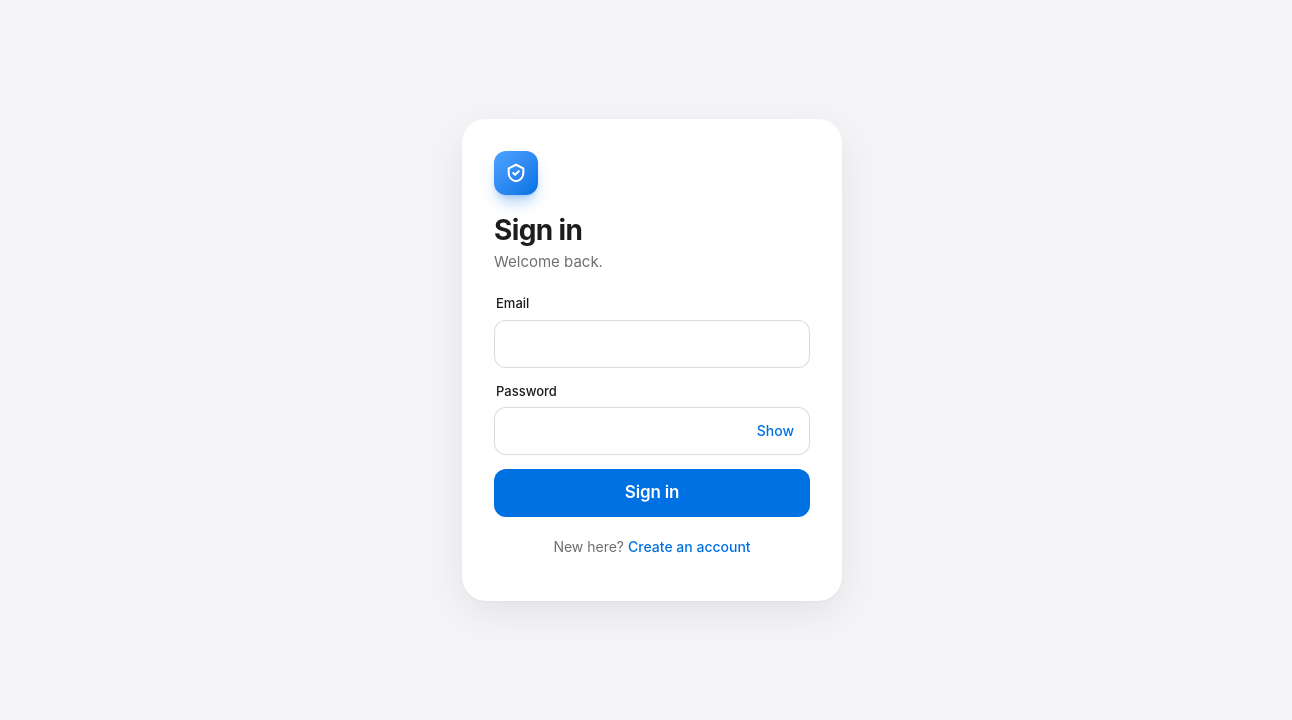
Scenario: session continuity › after signing in, the visitor returns to where they were heading
The width and height of the screenshot is (1292, 720).
Expected: the heading "Sign in" is shown, x1=494 y1=213 x2=582 y2=247
Type "ada@example.com" into the field labelled "Email" at (652, 344), box x1=494 y1=320 x2=810 y2=368
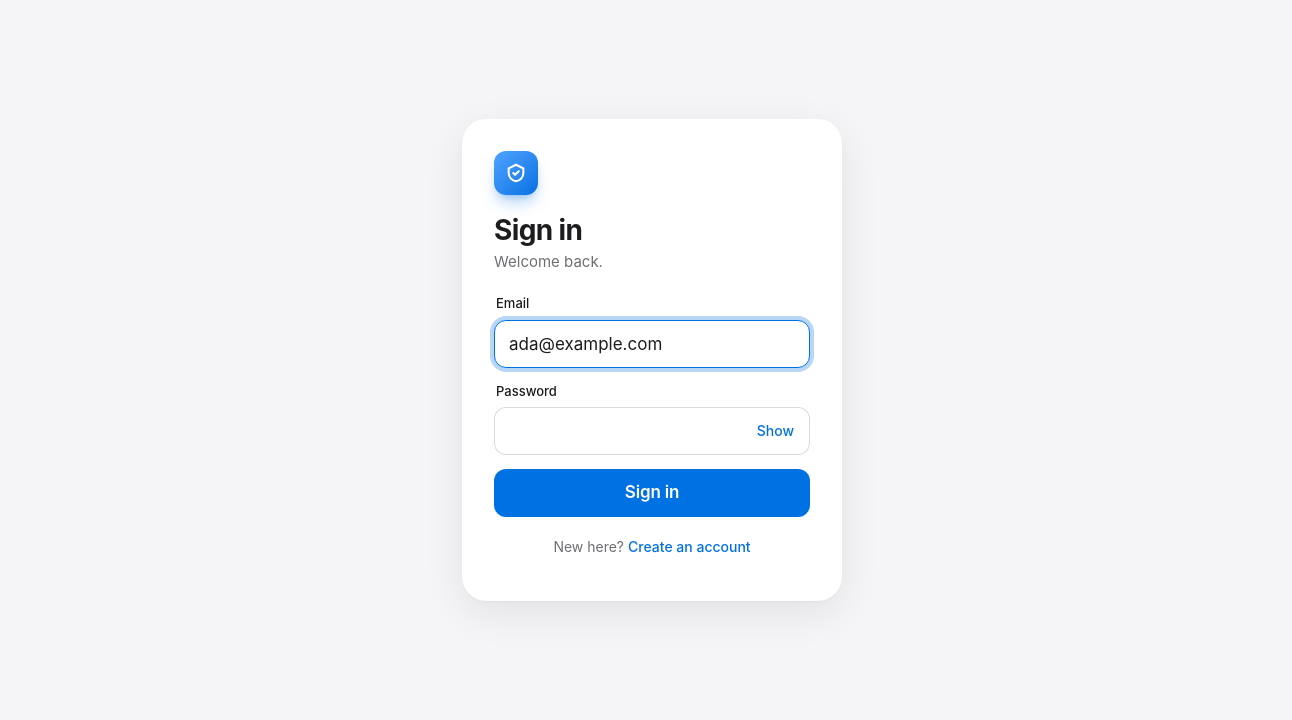
Type "secret" into the password field labelled "Password" at (652, 431), box x1=494 y1=407 x2=810 y2=455
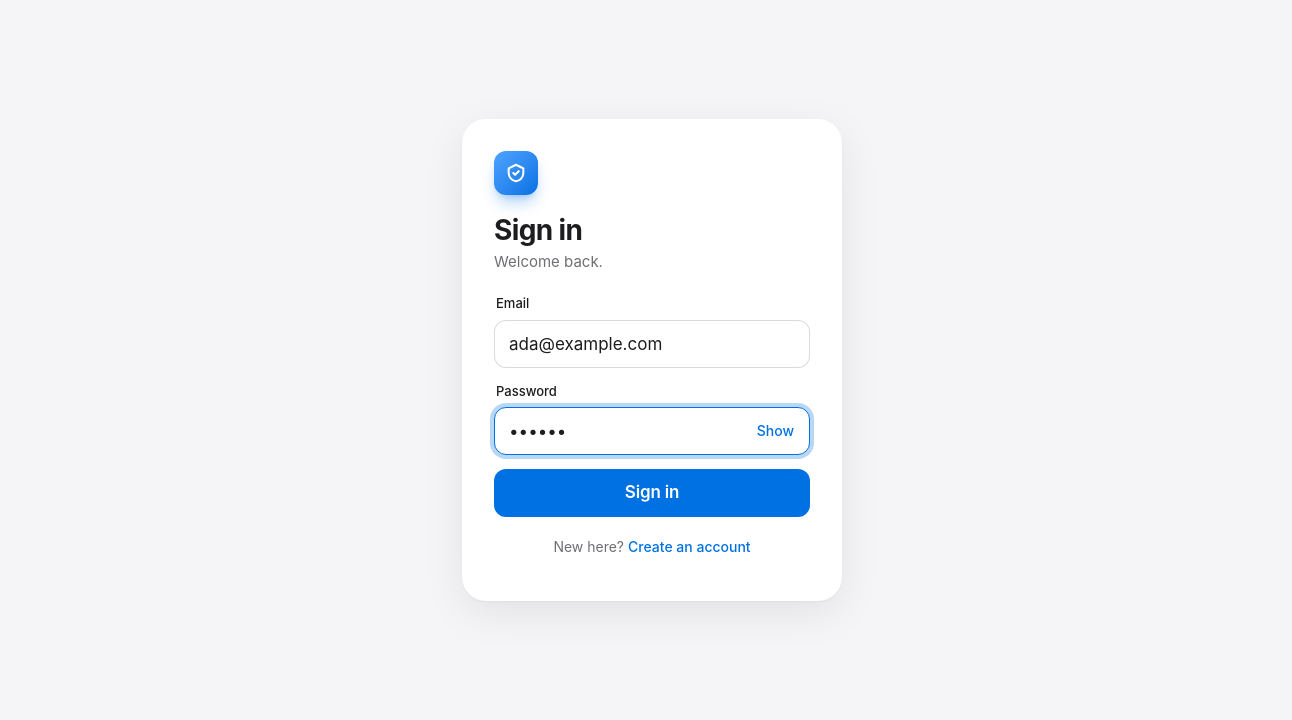
Click the button "Sign in" at (652, 493), box x1=494 y1=469 x2=810 y2=517
(page scrolled)
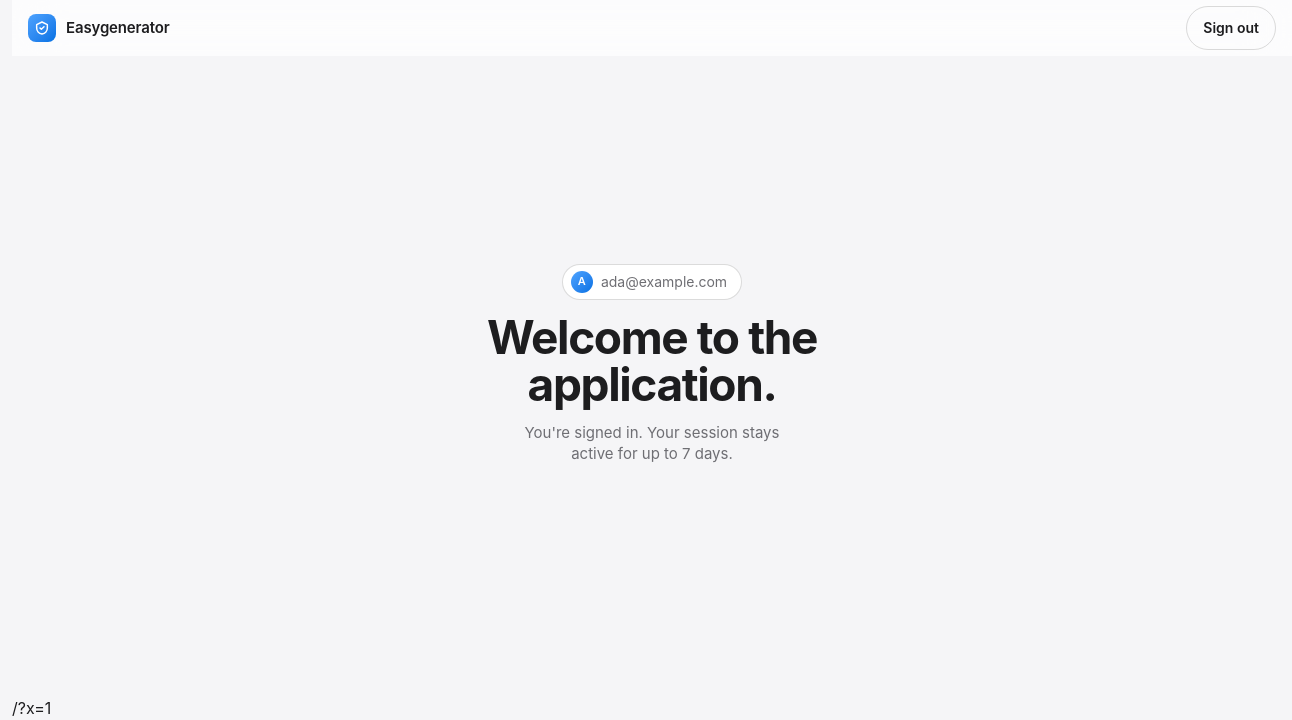
Expected: the heading "Welcome to the application." is shown, x1=487 y1=308 x2=817 y2=412
Expected: the text named "location" reads "/?x=1", x1=12 y1=698 x2=51 y2=718
